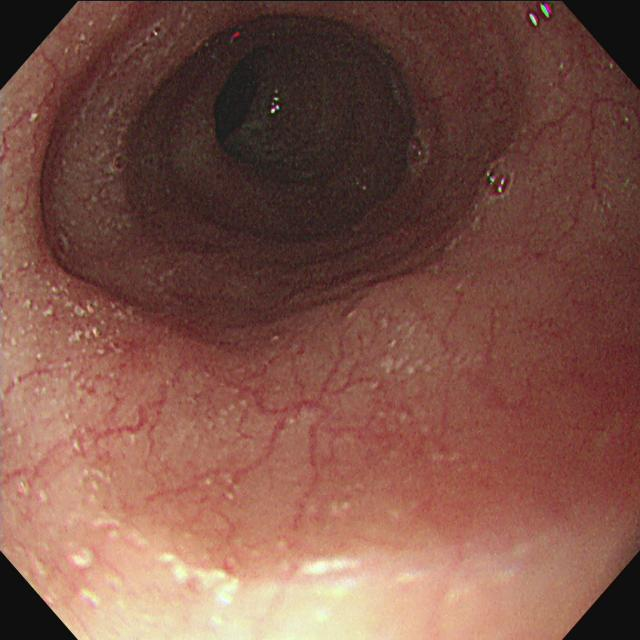E: (216, 61, 260, 141)
J: (56, 6, 195, 260), (3, 278, 138, 358)
T: (484, 159, 516, 200), (407, 136, 430, 172), (113, 154, 128, 174), (149, 27, 162, 42)
U: (271, 90, 283, 115), (541, 2, 554, 20), (528, 12, 540, 30)
